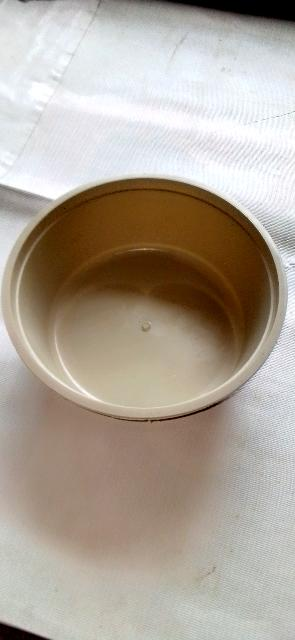hardplastic: (20, 179, 282, 423)
